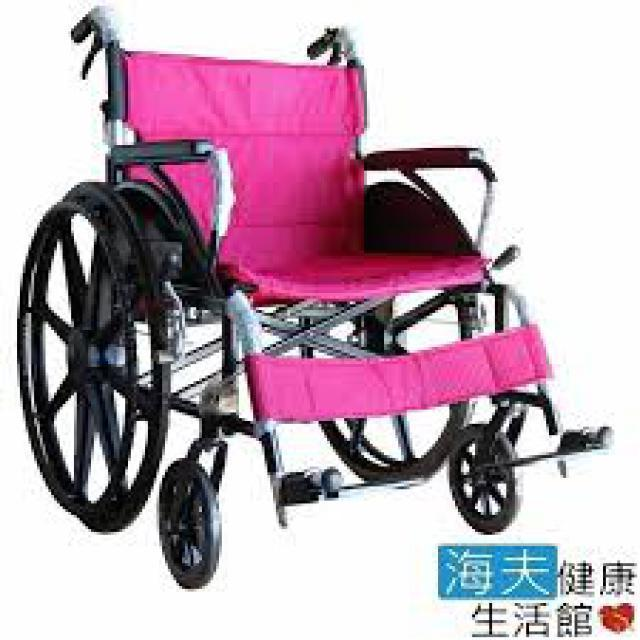wheelchairs: (22, 6, 612, 591)
